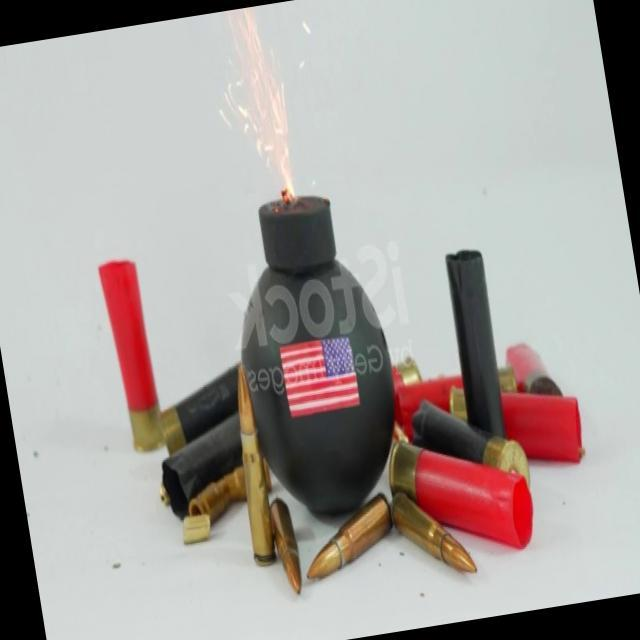grenade: (210, 183, 416, 544)
